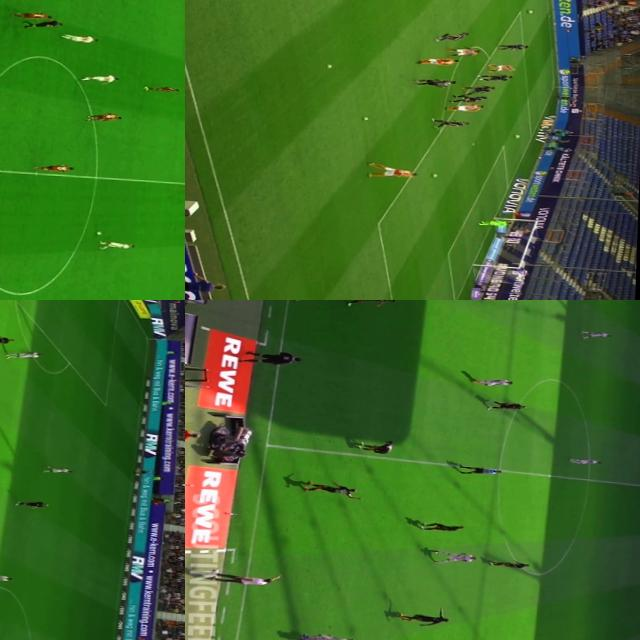ball: (91, 230, 106, 236), (362, 116, 370, 120), (512, 134, 520, 138), (326, 64, 332, 68), (528, 8, 534, 12), (433, 173, 439, 177)
player: (398, 609, 456, 625), (306, 481, 357, 494), (368, 163, 416, 176), (432, 550, 480, 562), (80, 71, 120, 83), (491, 398, 531, 410), (421, 521, 467, 531), (433, 30, 468, 43), (487, 558, 532, 568), (298, 632, 352, 640), (33, 162, 75, 172), (358, 441, 396, 452), (5, 350, 44, 360), (446, 46, 481, 57), (60, 31, 100, 40), (12, 498, 48, 508), (473, 377, 513, 386), (97, 240, 138, 248), (417, 56, 458, 64), (452, 93, 488, 102), (446, 102, 482, 111), (416, 77, 456, 85), (566, 456, 606, 464), (432, 119, 469, 127), (14, 11, 56, 18), (144, 84, 180, 92), (88, 112, 124, 120), (43, 464, 79, 472), (466, 85, 496, 94), (341, 300, 395, 305), (329, 635, 383, 640), (489, 62, 515, 72), (580, 330, 612, 338), (478, 220, 510, 227), (479, 74, 515, 80), (498, 42, 528, 49), (0, 334, 19, 345), (0, 572, 16, 581)
